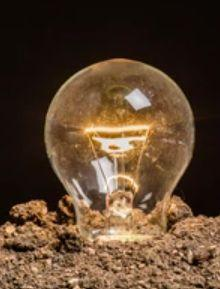light bulb: (41, 55, 196, 250)
